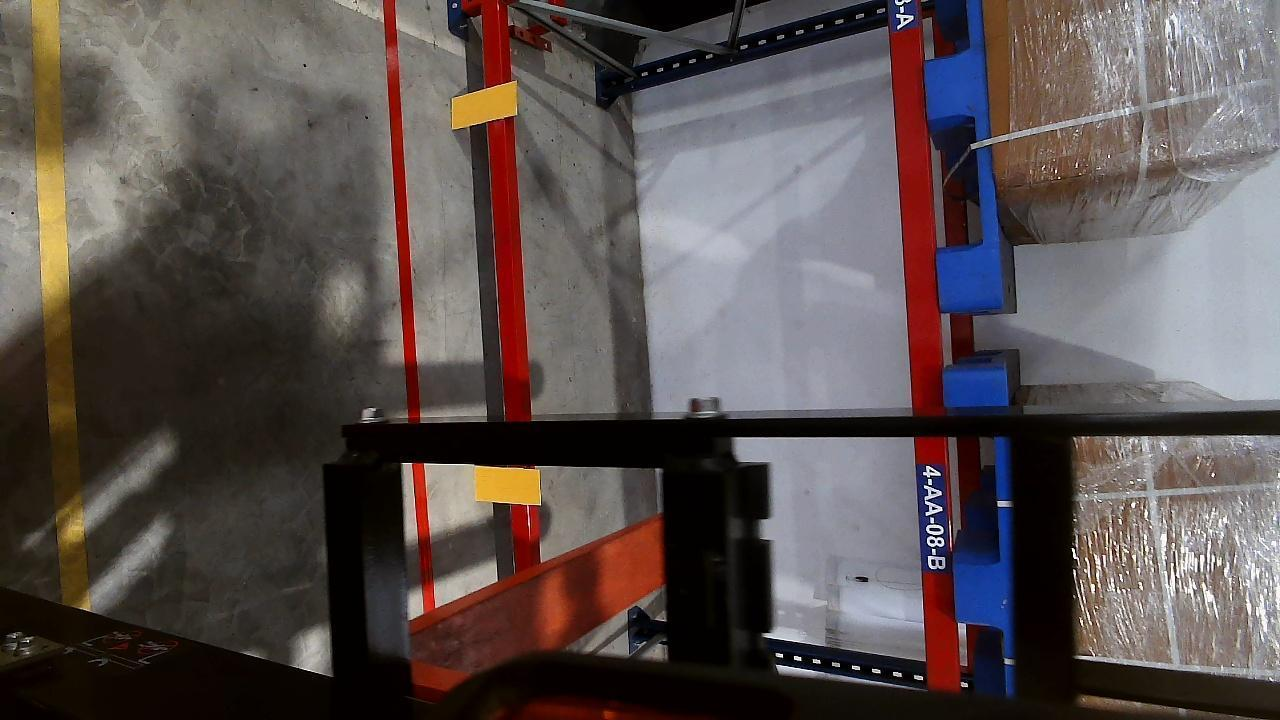red_line: (380, 0, 438, 613)
yellow_line: (27, 0, 88, 616)
